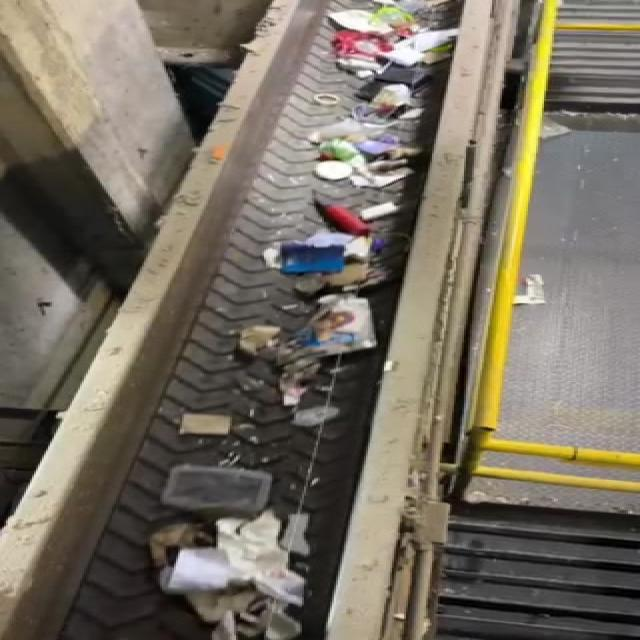pp: (150, 467, 283, 523), (293, 406, 337, 438)
